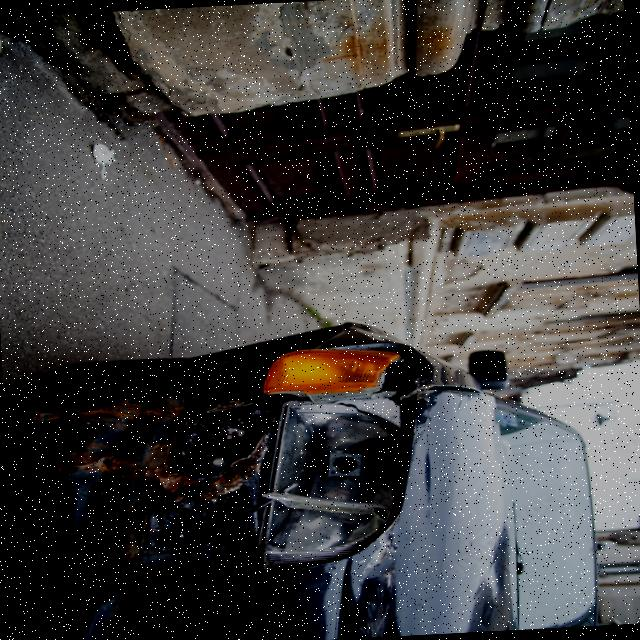Head Light: (244, 332, 430, 568)
